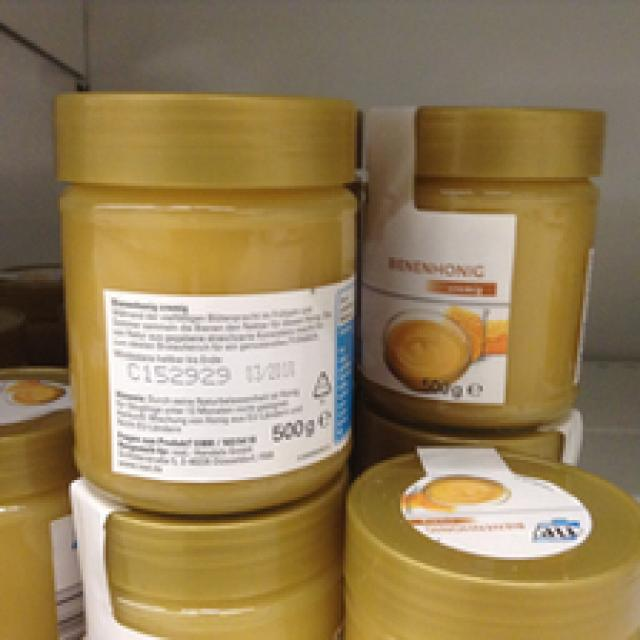groceries: (43, 86, 363, 511), (357, 103, 614, 443)
